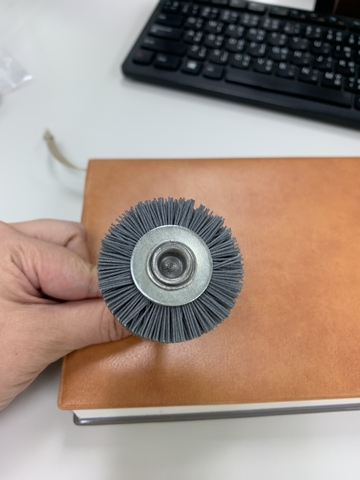Wheel Brush: (96, 194, 268, 343), (106, 187, 243, 351)
